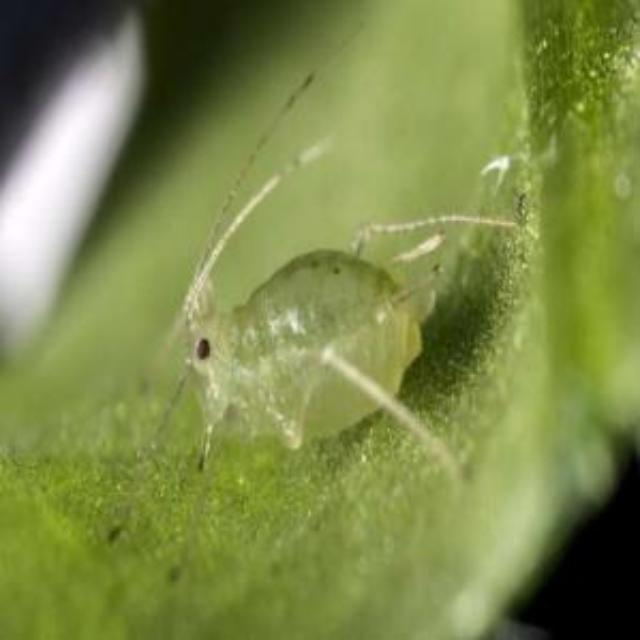Green peach aphid: (80, 82, 520, 534)
